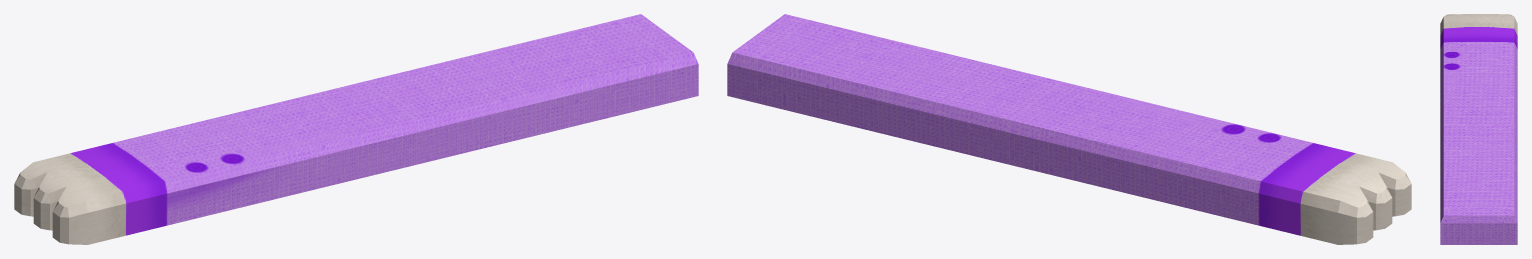
Rendered from doggoPaw.FBX.
3 renders of one model, left to right at view 1: azimuth 30°, elevation 25°; view 2: azimuth 150°, elevation 25°; view 3: azimuth 270°, elevation 25°, orthographic. The views are drawn at different scales.
Visible parts, largest first — view 1: Box001; view 2: Box001; view 3: Box001.
Part boxes in pixels (<box>): Box001: <box>14,14,698,244</box>; Box001: <box>727,14,1411,244</box>; Box001: <box>1440,14,1517,244</box>.
Size of the model in its own units: 224 by 15.23 by 35.15.
